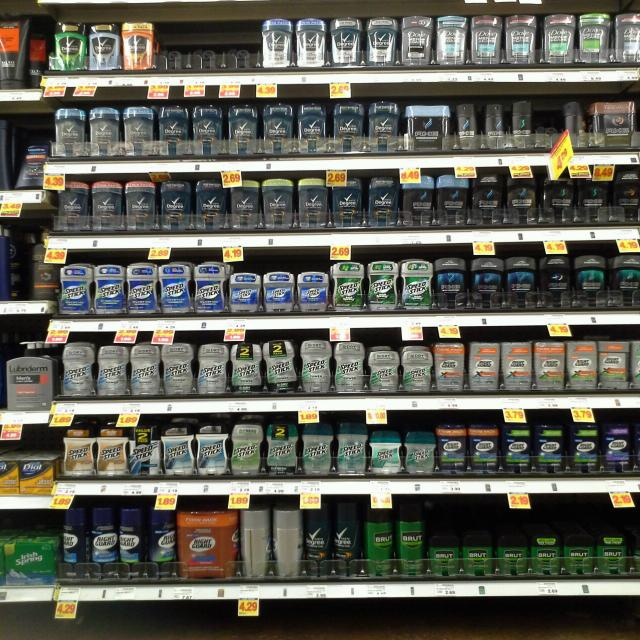void: (156, 21, 251, 64)
